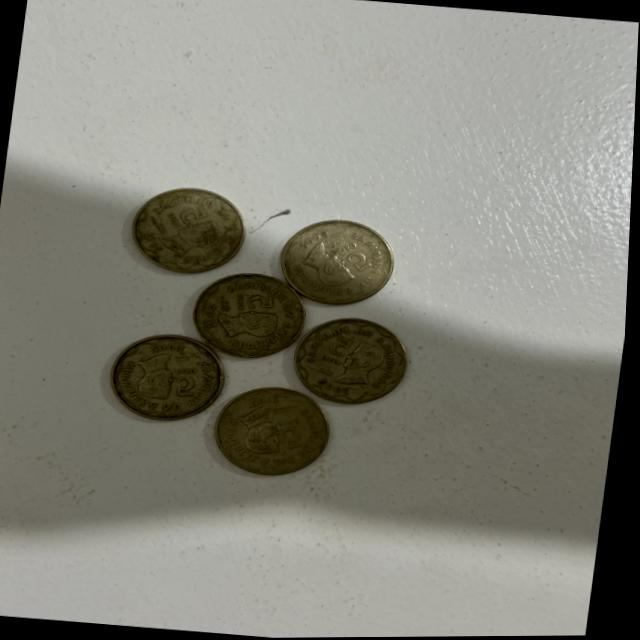5_Old_Front: (162, 198, 217, 235), (229, 287, 283, 318), (322, 335, 360, 378), (276, 414, 313, 457), (339, 242, 379, 277), (172, 364, 202, 400)
